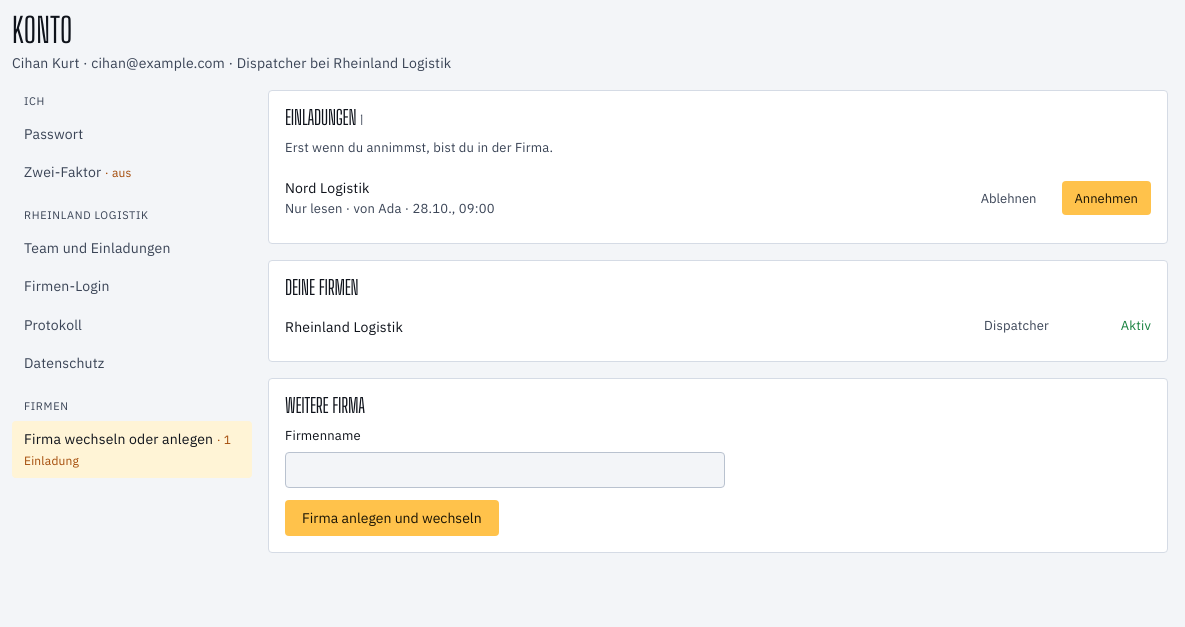
account page › accepts an invitation into another company
Expected: the text "Nur lesen · von Ada" is shown, [285,200,495,217]
Expected: the link "Firma wechseln oder anlegen · 1 Einladung" is shown, [12,421,252,478]
Click the button with aria-label "Einladung von Nord Logistik annehmen".
click(1106, 198)  # box [1062,181,1151,215]
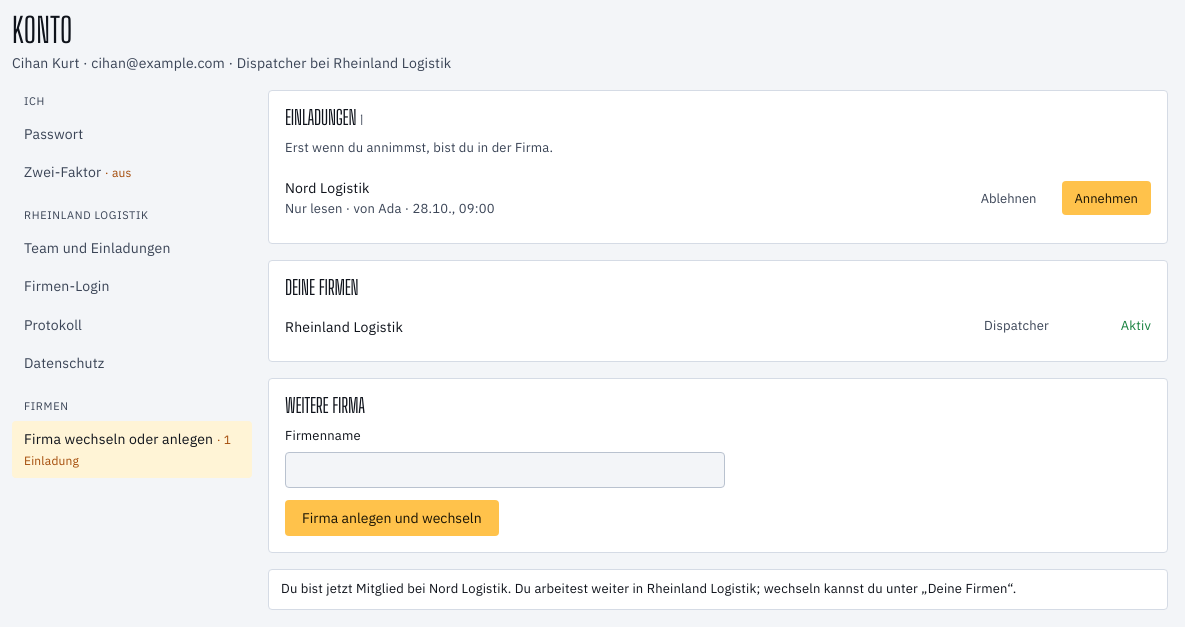
Now the text "Du bist jetzt Mitglied bei Nord Logistik. Du arbeitest weiter in Rheinland Logistik; wechseln kannst du unter „Deine Fir" is shown, box [281,580,1016,597]
